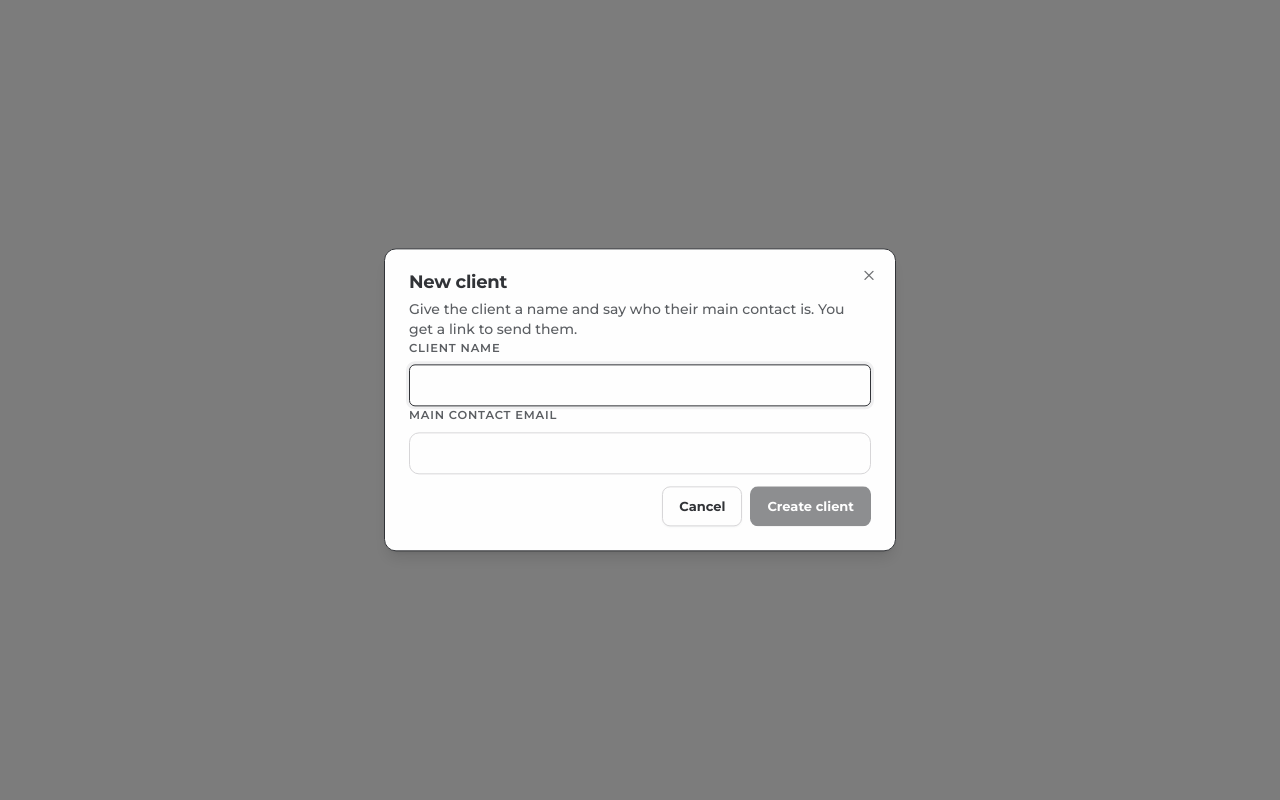
New client dialog › shows a validation message (400) from the server
Type "Bakery" into the field labelled "Client name".
click(640, 386); type("Bakery")  # box [409,365,871,407]
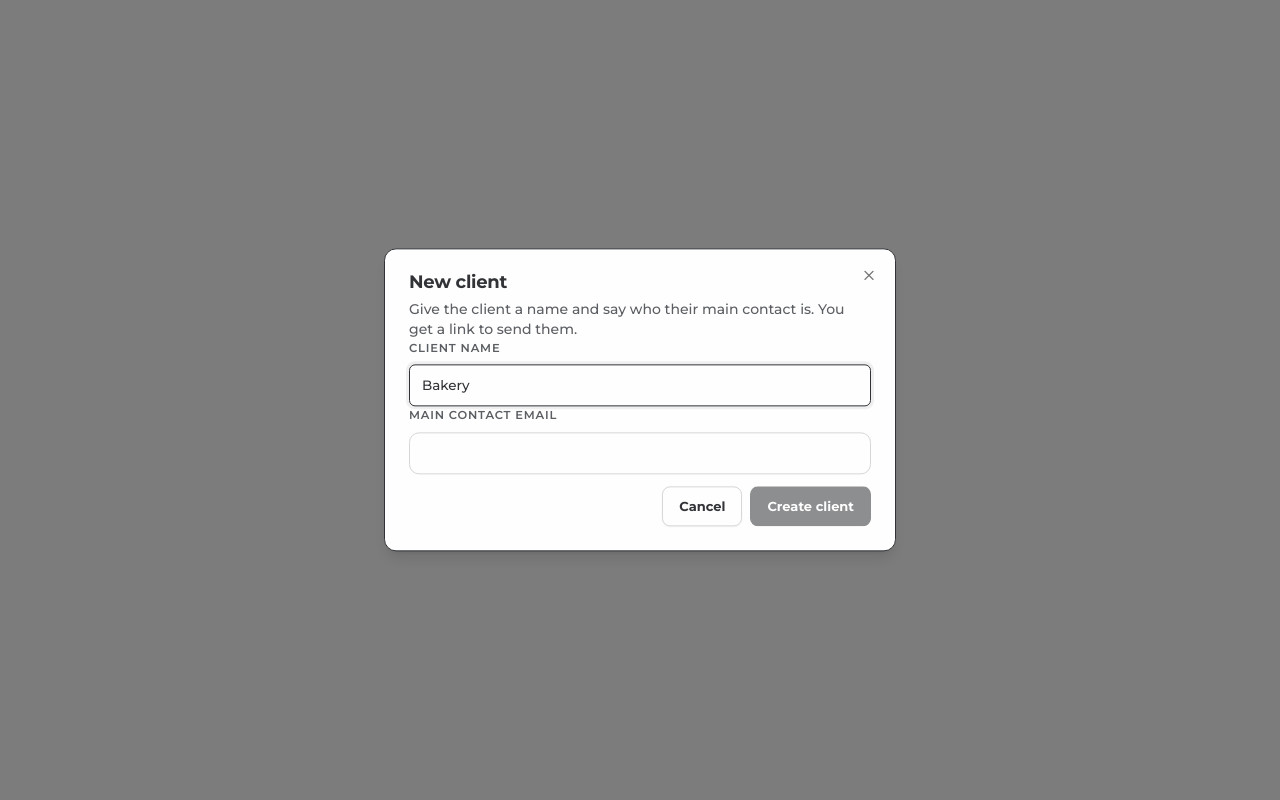
Type "nope" into the field labelled "Main contact email".
click(640, 453); type("nope")  # box [409,432,871,474]
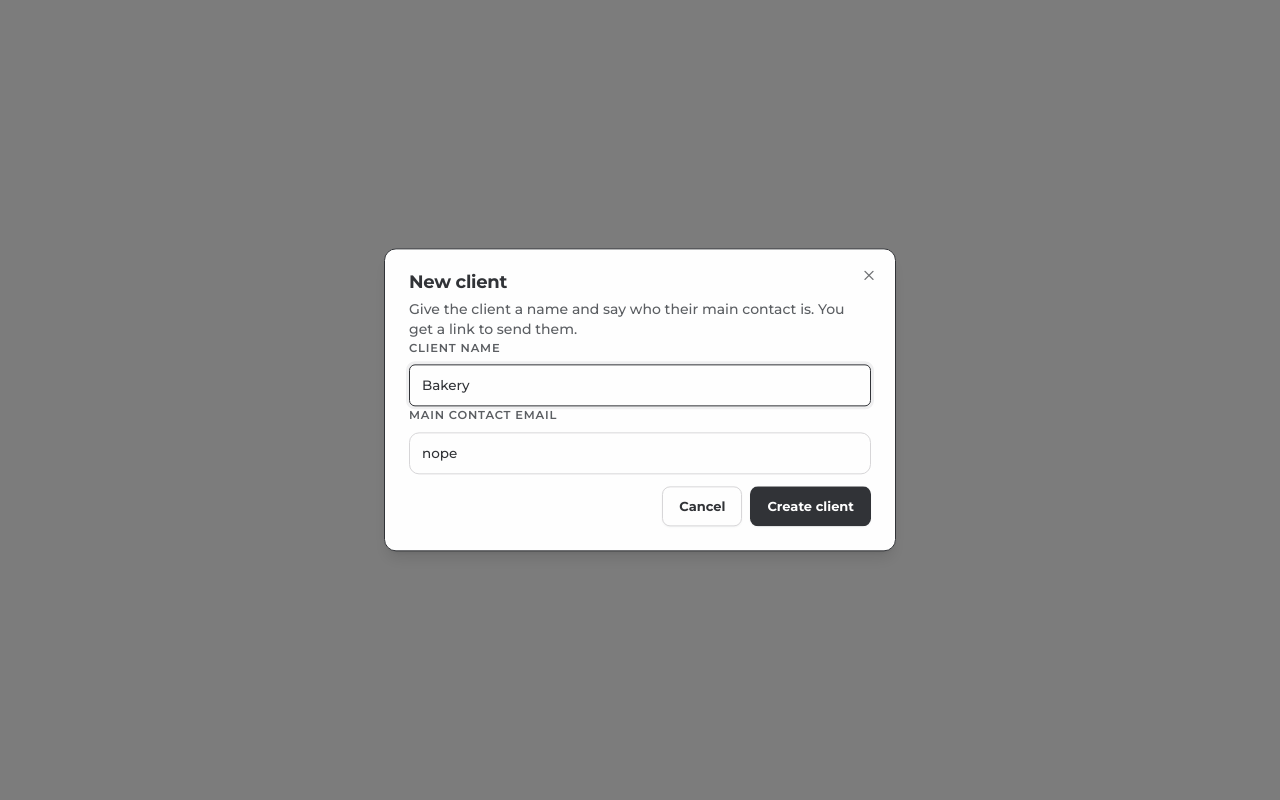
Click the button "Create client".
click(811, 507)  # box [750,487,871,527]
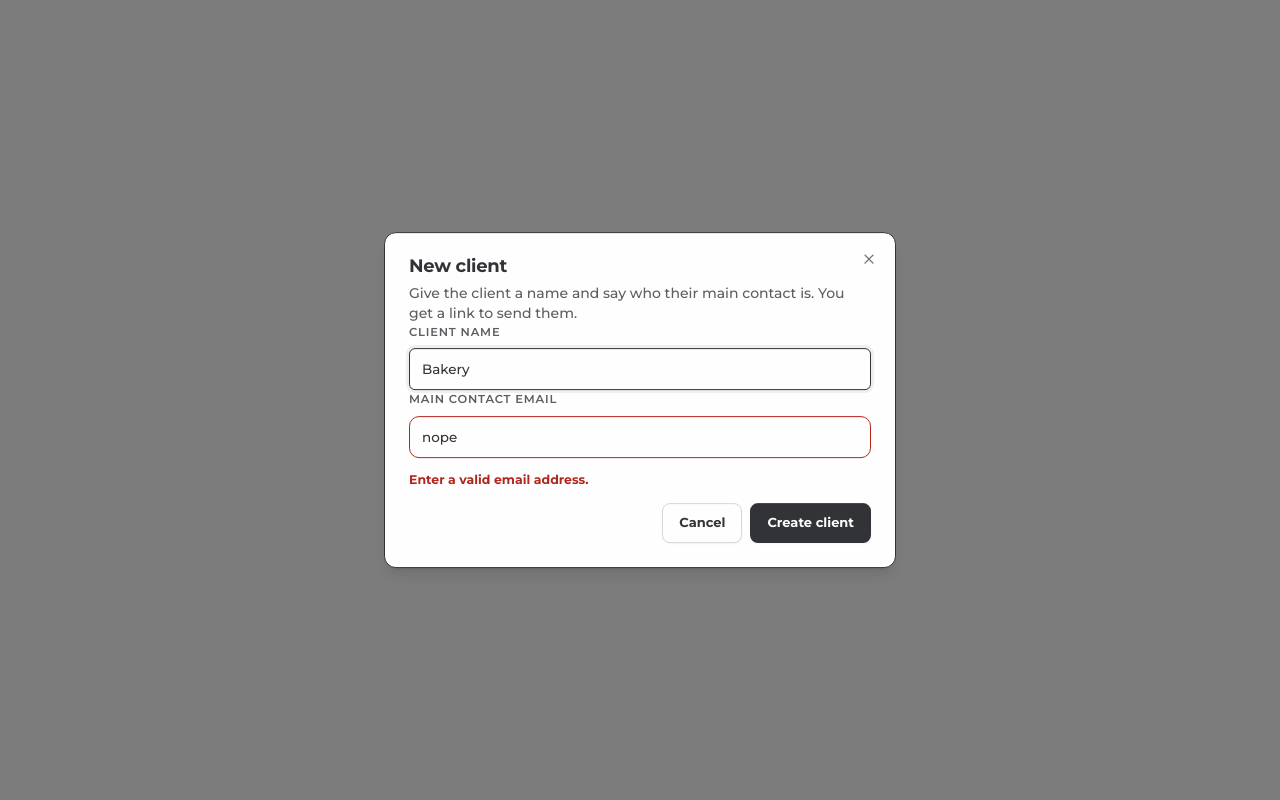
Result: the message reads "Enter a valid email address." at [409,472,588,487]
